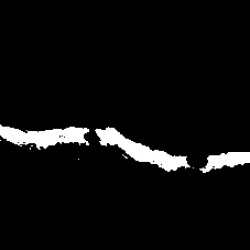crack: (96, 127, 187, 170), (3, 127, 89, 149), (202, 152, 249, 174)
